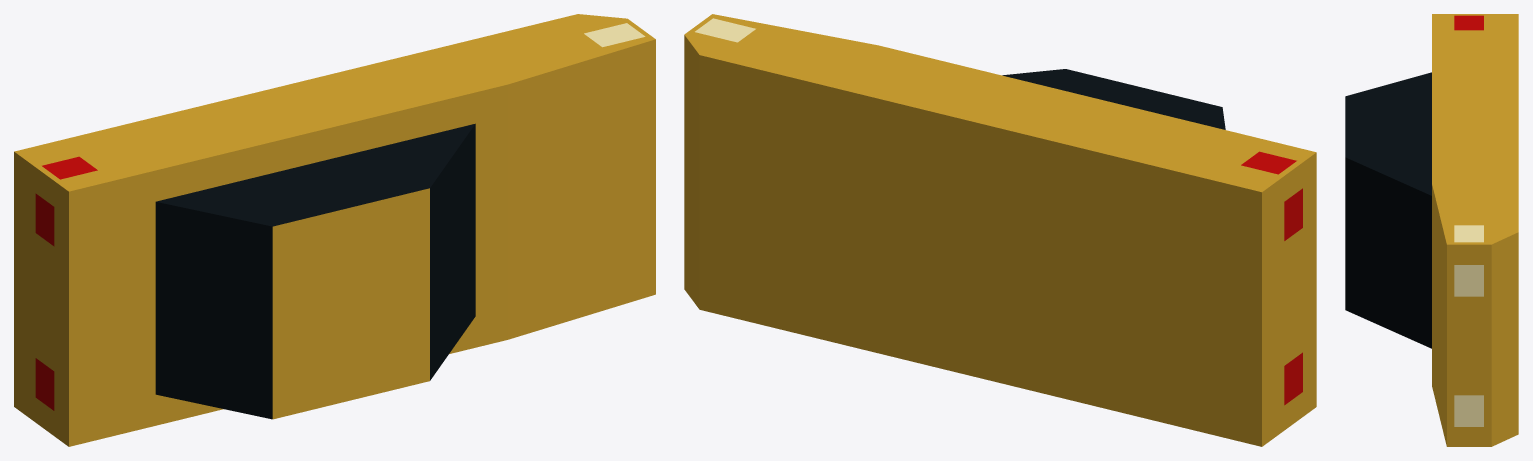
Rendered from SM_LowPolyCab.obj.
3 renders of one model, left to right at view 1: azimuth 30°, elevation 25°; view 2: azimuth 150°, elevation 25°; view 3: azimuth 270°, elevation 25°, orthographic. The views are drawn at different scales.
Parts seen in each view (by area): view 1: LowPolyCab; view 2: LowPolyCab; view 3: LowPolyCab.
Part boxes in pixels (x1,y1,x2,y2): LowPolyCab: [14, 14, 655, 446]; LowPolyCab: [684, 14, 1316, 446]; LowPolyCab: [1345, 14, 1518, 446].
Size of the model in its own units: 220 by 90.3 by 70.
